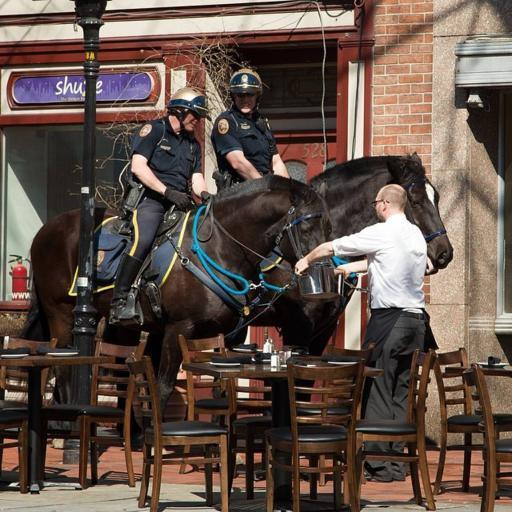horse: (108, 150, 456, 448), (16, 170, 335, 466)
